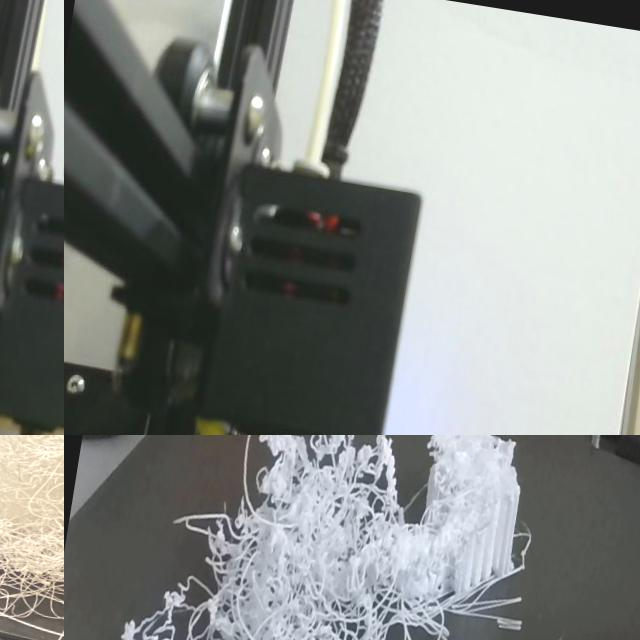spaghetti: (110, 435, 574, 640), (0, 435, 64, 640)
